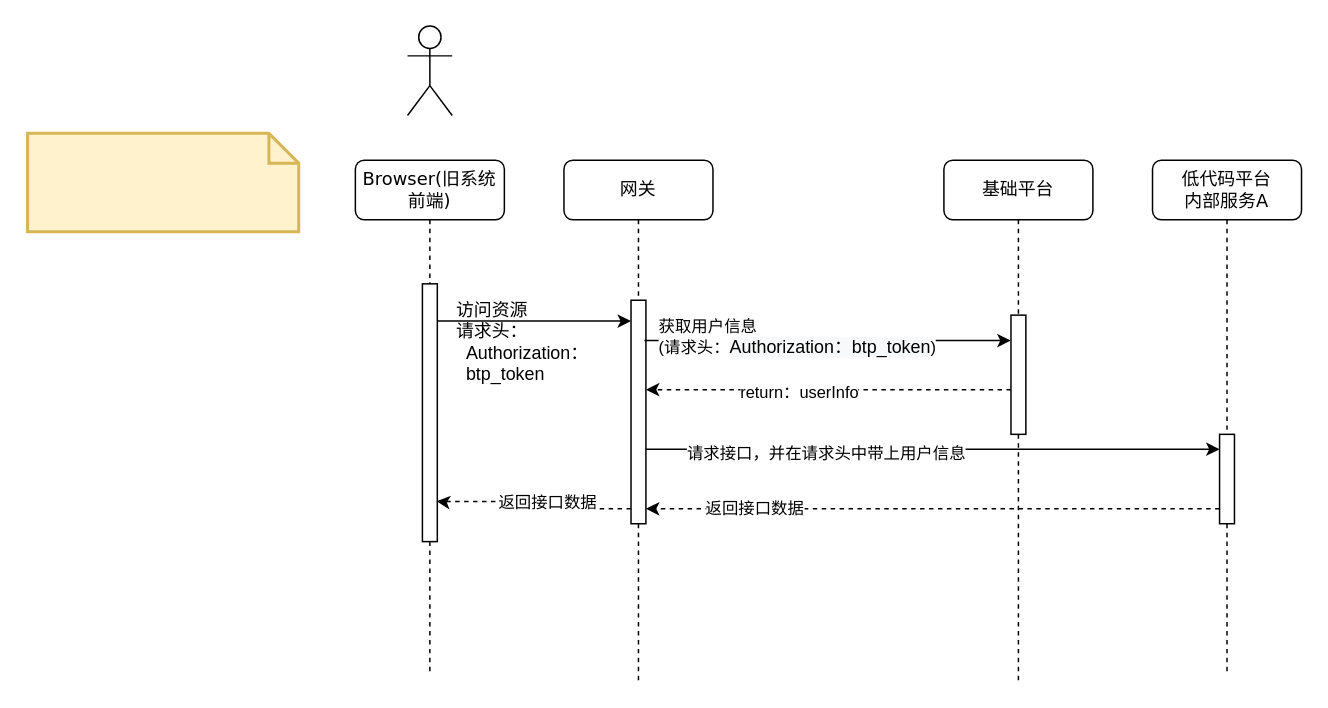
The diagram is 1328 pixels wide and 708 high, and some of its shapes have lost their labels. Here are the shapes that lost their labels. From the top down, the centre of each, then its label:
At (429,70): "用户".
At (162,181): "旧系统访问低代码平台 接口认证过程".
